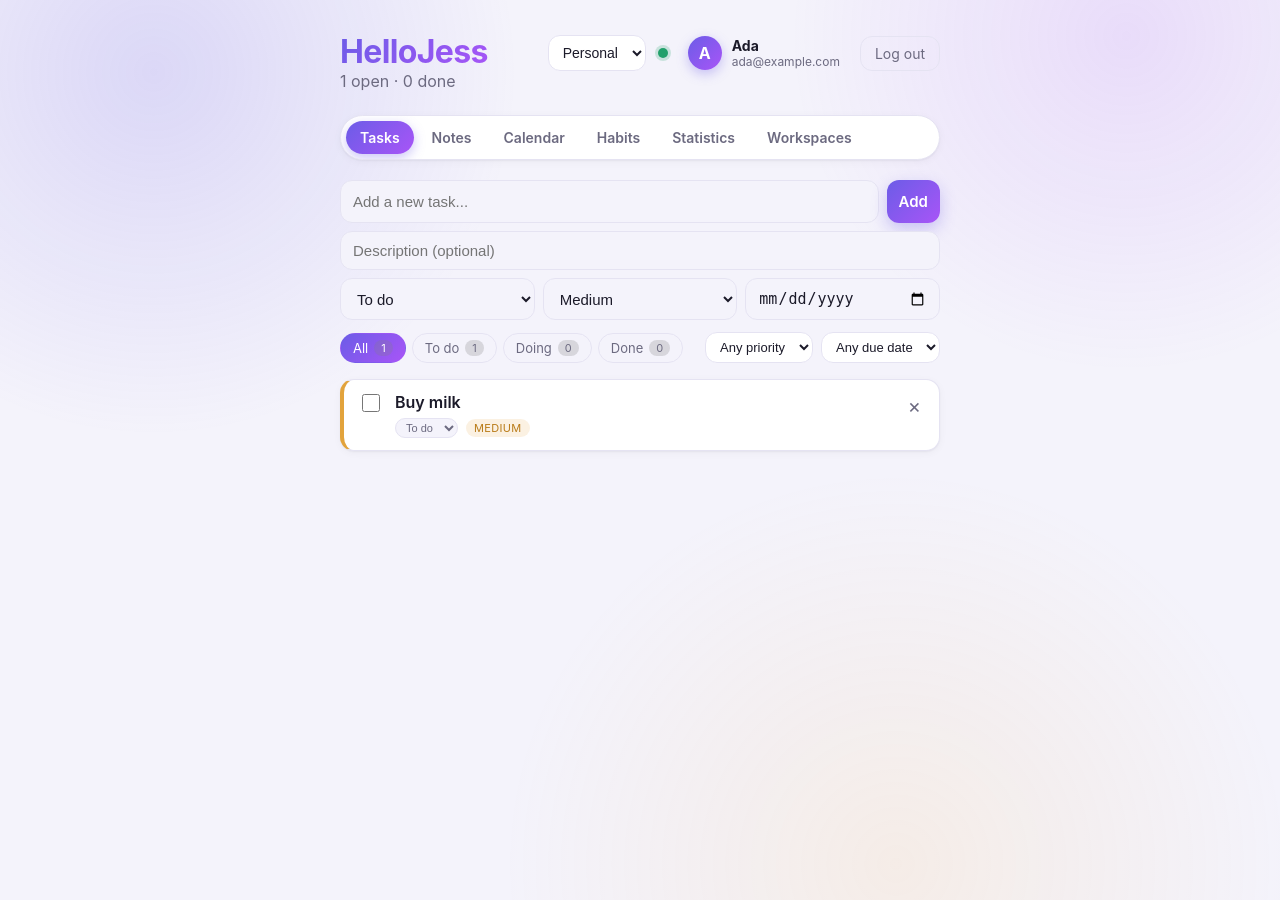
Test case: Tasks page › shows the validation messages of the server above the form
The image size is (1280, 900).
Expected: the link "Buy milk" is shown, [395, 392, 461, 412]
Click the button "Add": (913, 202) [887, 180, 940, 223]
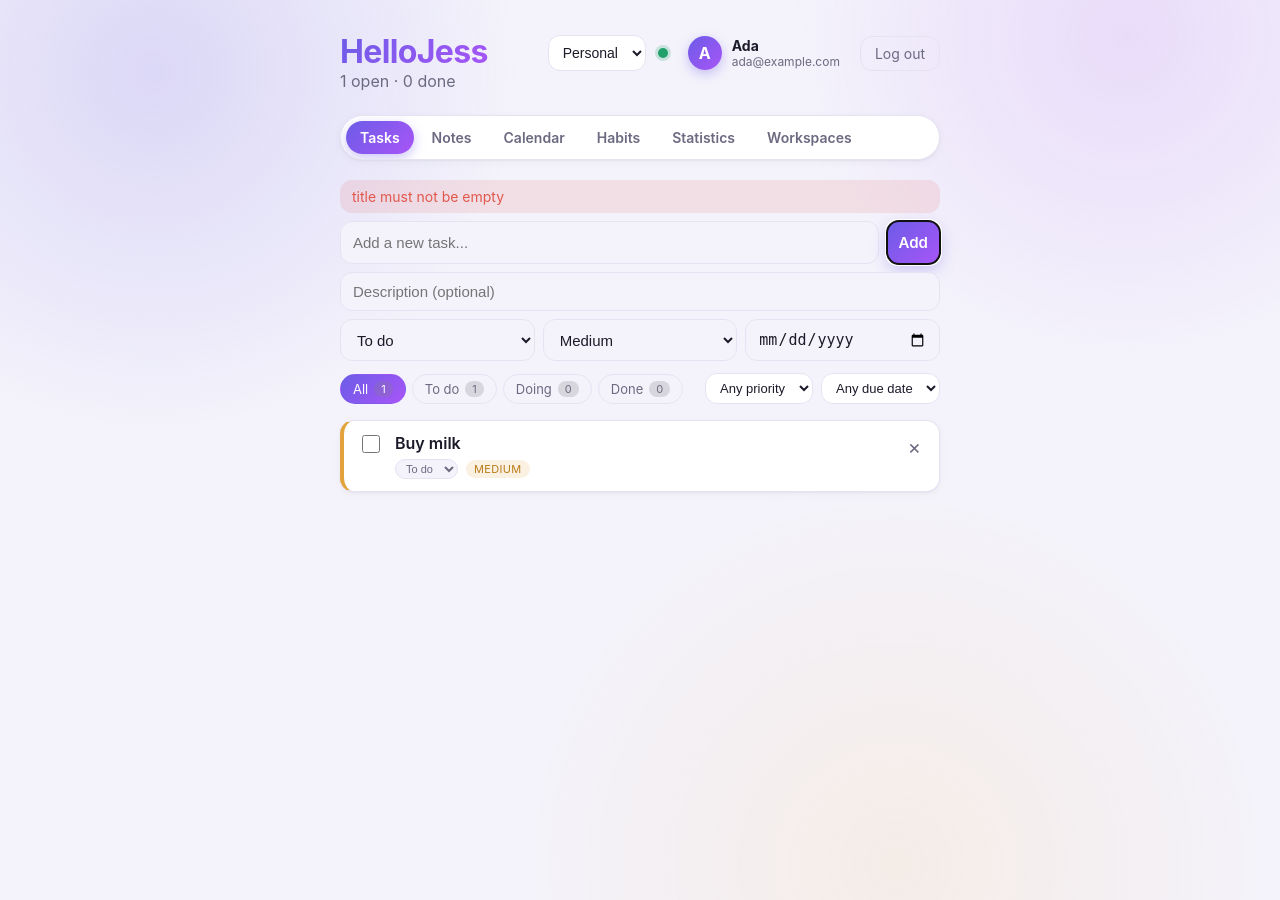
Result: the text "title must not be empty" is shown at [352, 188, 504, 205]
